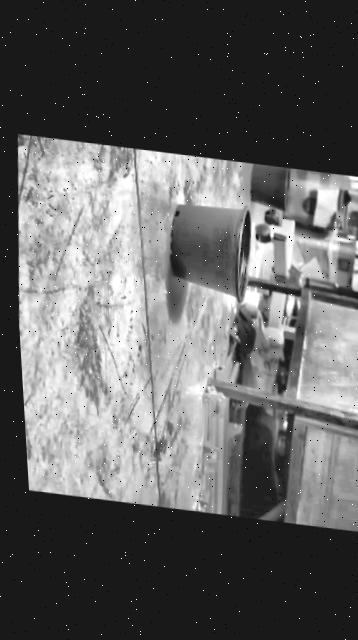pot: (166, 195, 258, 303), (249, 162, 293, 212)
